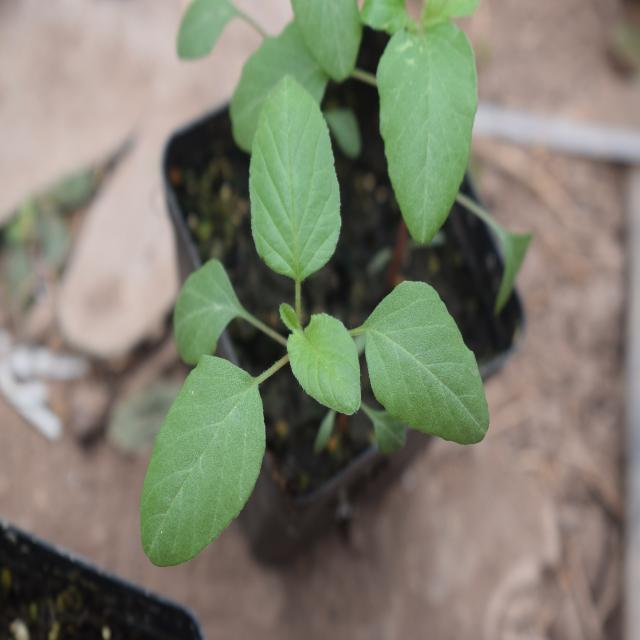pigweed: (134, 59, 488, 553)
